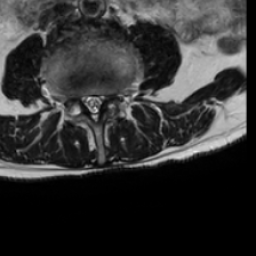CCS_normal: (89, 86, 97, 128)
LFS_severe_stenosis: (107, 87, 114, 107)
LLS_stenosis: (97, 87, 106, 113)
RFS_severe_stenosis: (71, 87, 80, 111)
RLS_stenosis: (80, 87, 89, 114)
